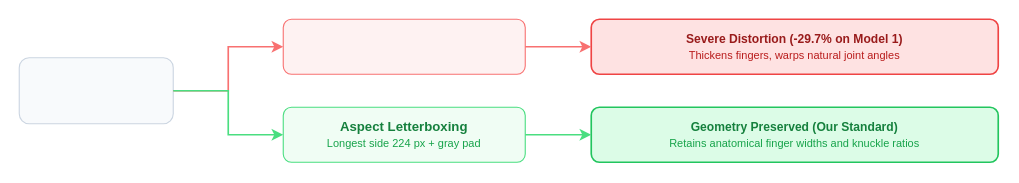
This 1019x183 diagram has some shape labels left out. Each missing label, with the centre of its shape:
Hand Crop Arbitrary aspect ratio (e.g. 110×200 px): [95,90]
Naive Squashing Direct resize to 224×224: [403,46]
